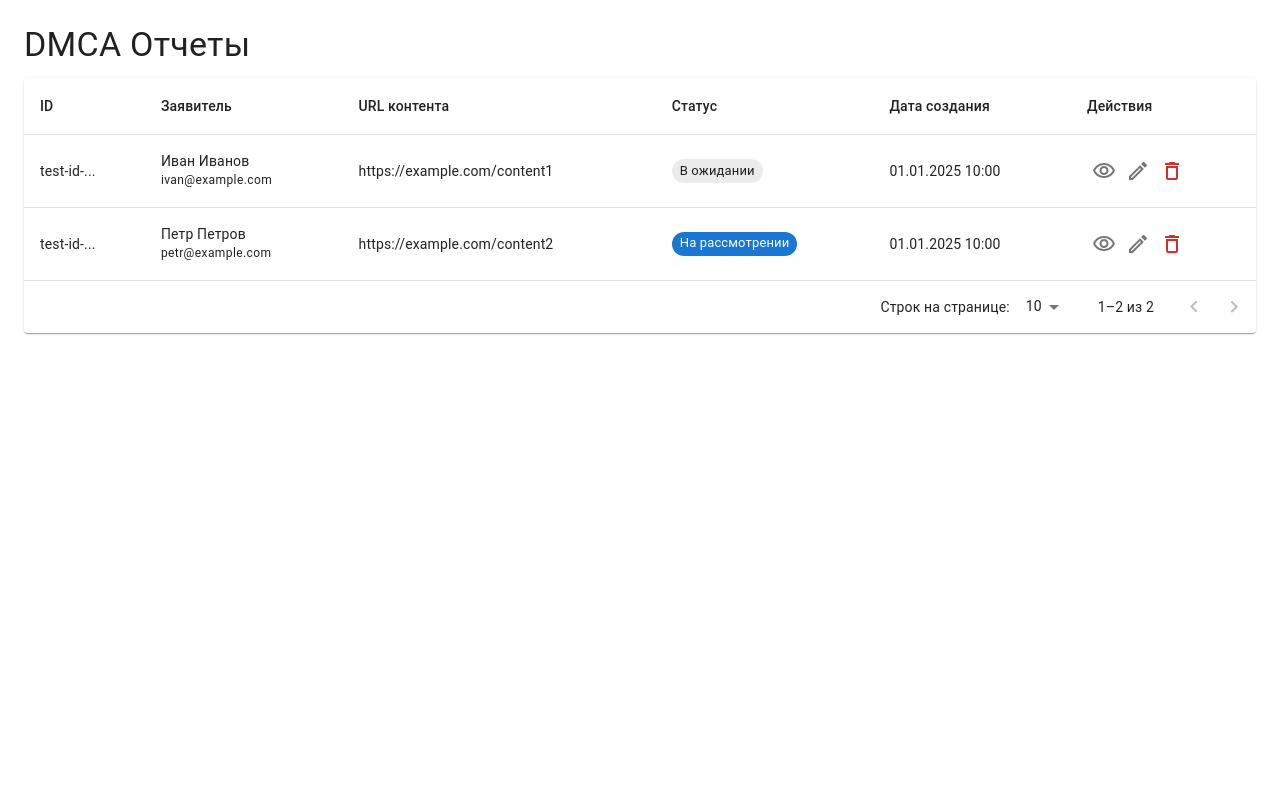
Test: DmcaReportsList › открывает диалог подтверждения при нажатии на кнопку удаления
The width and height of the screenshot is (1280, 800).
# Нажимаем на кнопку удаления первого отчета
Click the button titled "Удалить" in the row of "Иван Иванов" at x=1172, y=171, box [1155,154,1189,188]
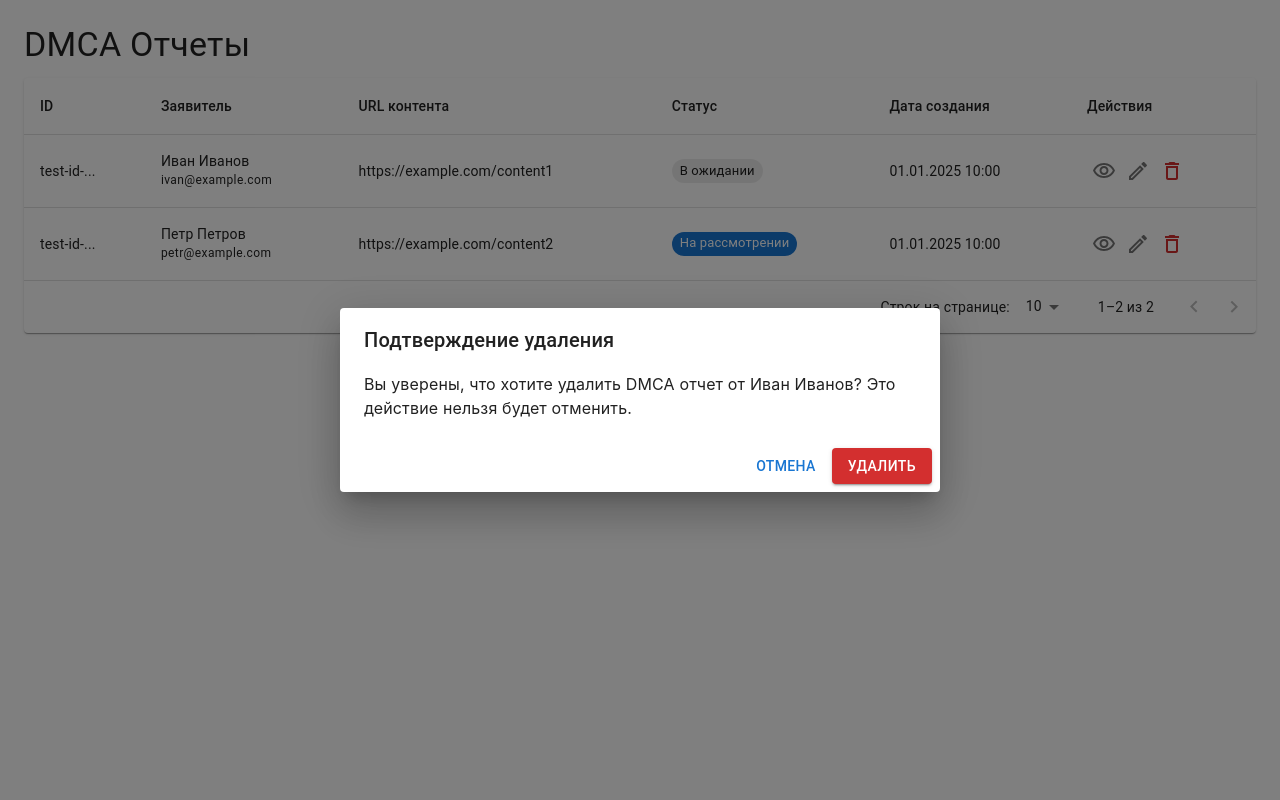
Expected: the heading "Подтверждение удаления" is shown, [364,328,614,352]
Expected: the text "Вы уверены, что хотите удалить DMCA отчет" is shown, [364,374,750,394]
